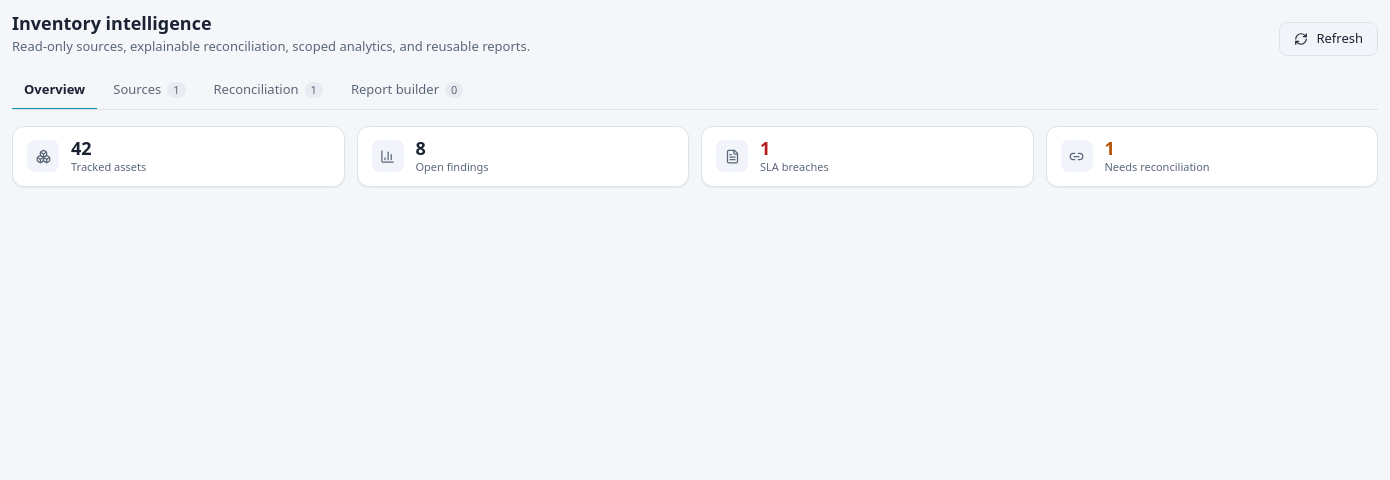
Test: shows the connector site name and a visible failed run
The image size is (1390, 480).
Expected: the text "42" is shown, [71,136,92,160]
Step 1. Click the tab "Sources 1" → (149, 91), box [101,72,198,110]
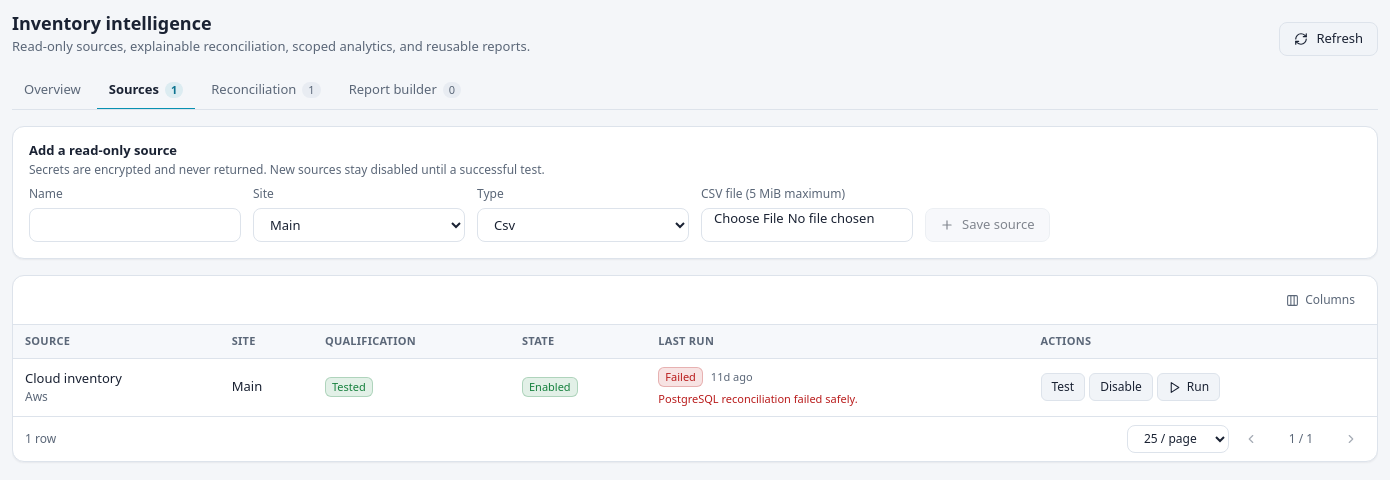
Result: the text "Failed" is shown at [658,366,703,387]
Result: the text "PostgreSQL reconciliation failed safely." is shown at [658,391,858,406]
